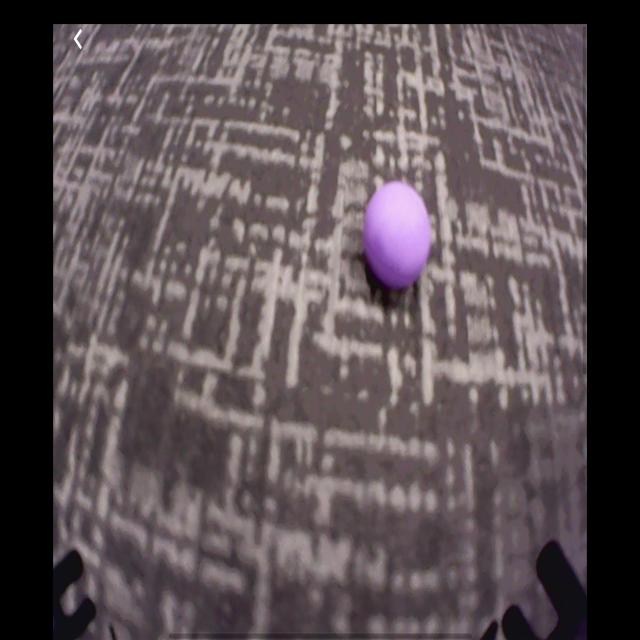ball: (365, 185, 430, 290)
